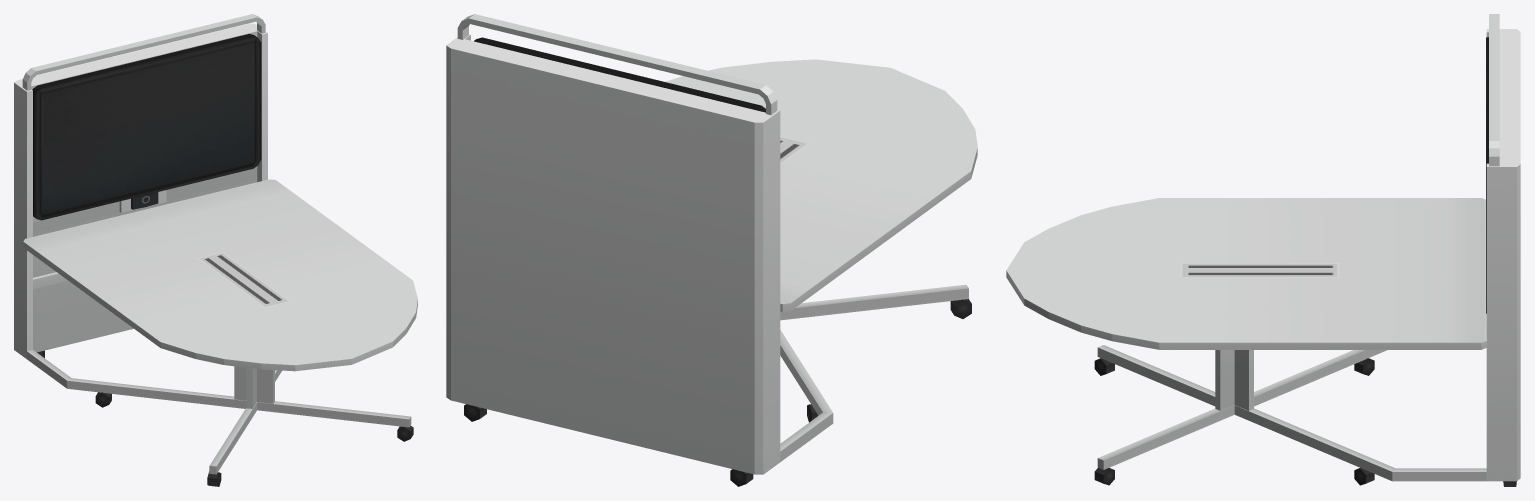
File: 电视办公桌.obj
3 views of the same model, side by side, from view 1: azimuth 30°, elevation 25°; view 2: azimuth 150°, elevation 25°; view 3: azimuth 270°, elevation 25° (orthographic). The views are drawn at different scales.
Size of the model in its own units: 162 by 184 by 243.
